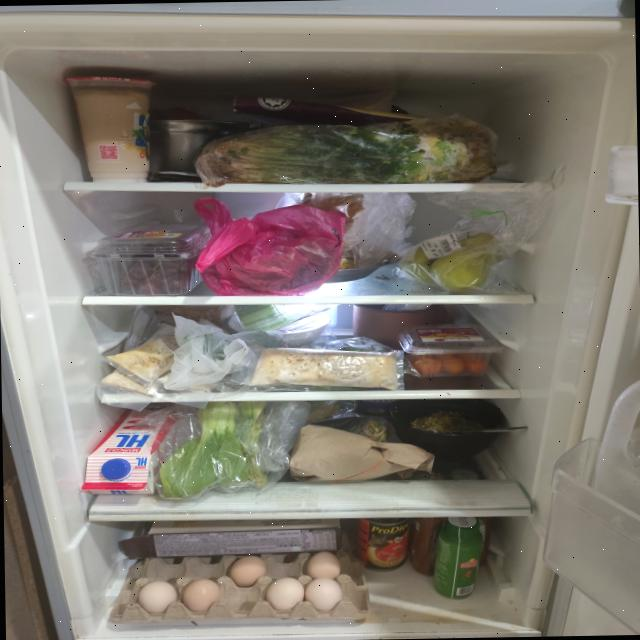apple: (428, 249, 491, 293)
egg: (107, 548, 370, 626)
leafy_greens: (192, 117, 498, 186)
pakchoy: (158, 401, 269, 500)
tempeh: (250, 345, 398, 394), (99, 322, 180, 398)
unknown_bag: (194, 194, 346, 298), (162, 308, 284, 391), (118, 242, 195, 295)
